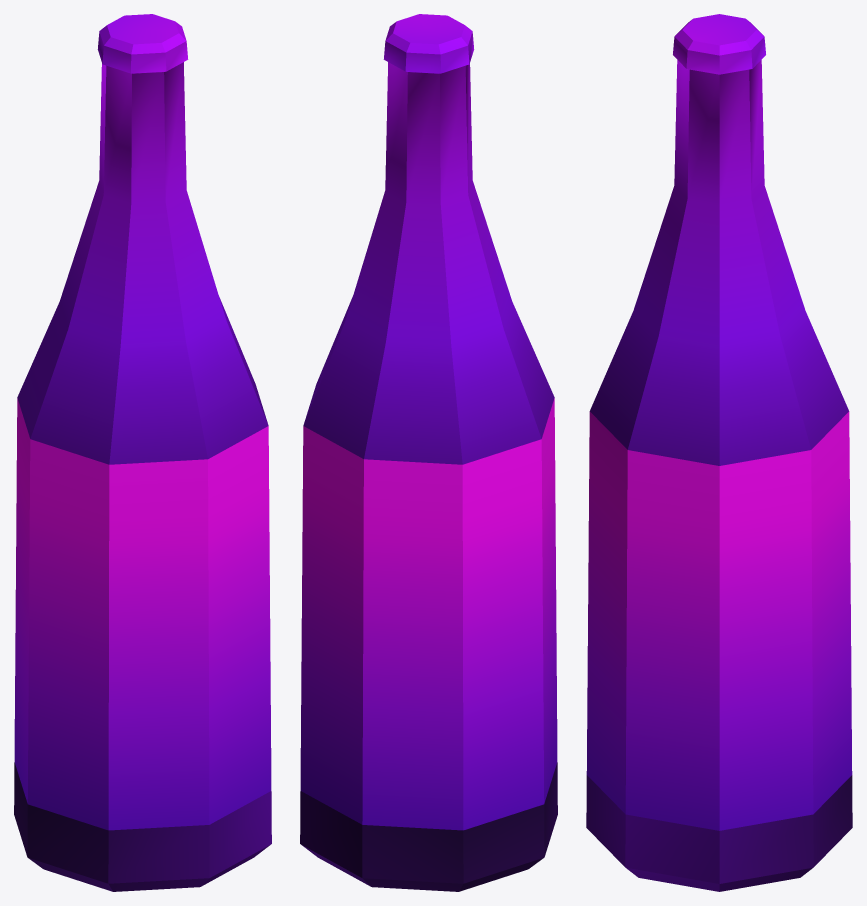
Rendered from Sampah6.fbx.
3 renders of one model, left to right at view 1: azimuth 30°, elevation 25°; view 2: azimuth 150°, elevation 25°; view 3: azimuth 270°, elevation 25°, orthographic.
Parts seen in each view (by area): view 1: Botol.001; view 2: Botol.001; view 3: Botol.001.
Part boxes in pixels (box(x1,y1,x2,y2)): Botol.001: box(14, 14, 271, 891); Botol.001: box(300, 14, 557, 891); Botol.001: box(586, 14, 852, 891).
Size of the model in its own units: 7.39 by 24.94 by 7.39.
